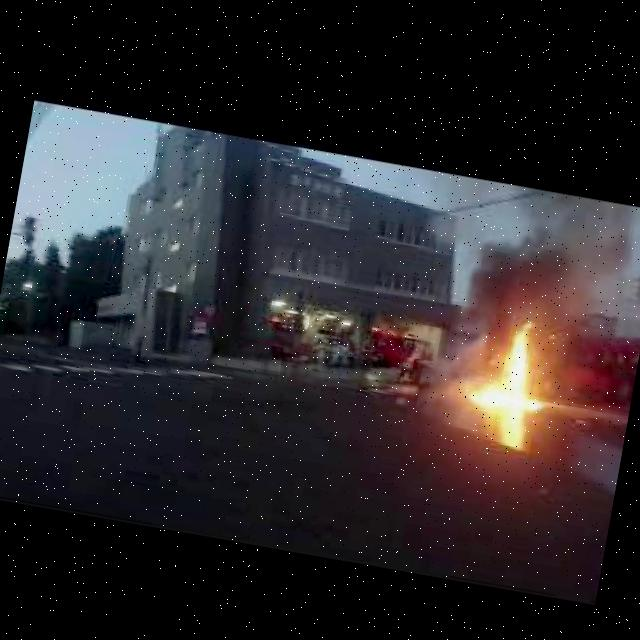fire: (471, 316, 557, 420)
